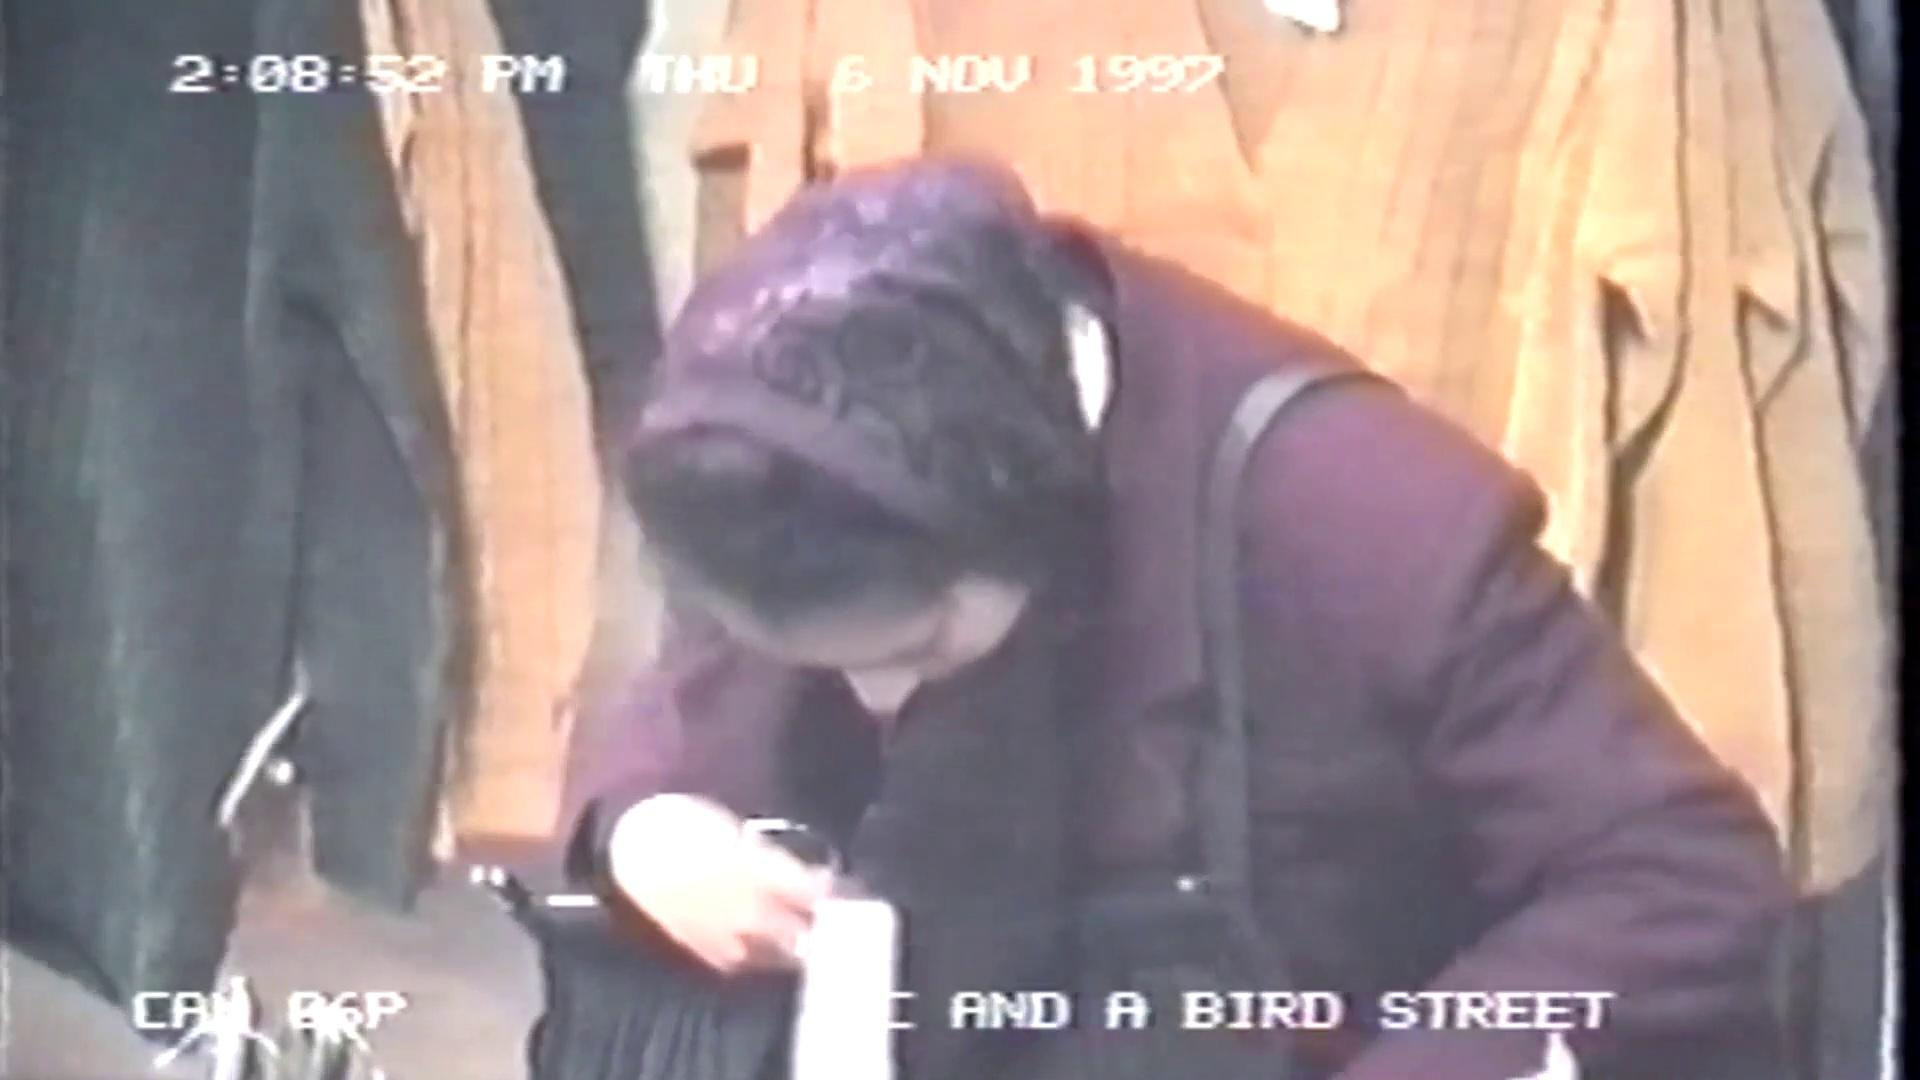Product: (541, 855, 924, 1080)
Product-Picked: (460, 0, 1760, 1080)
